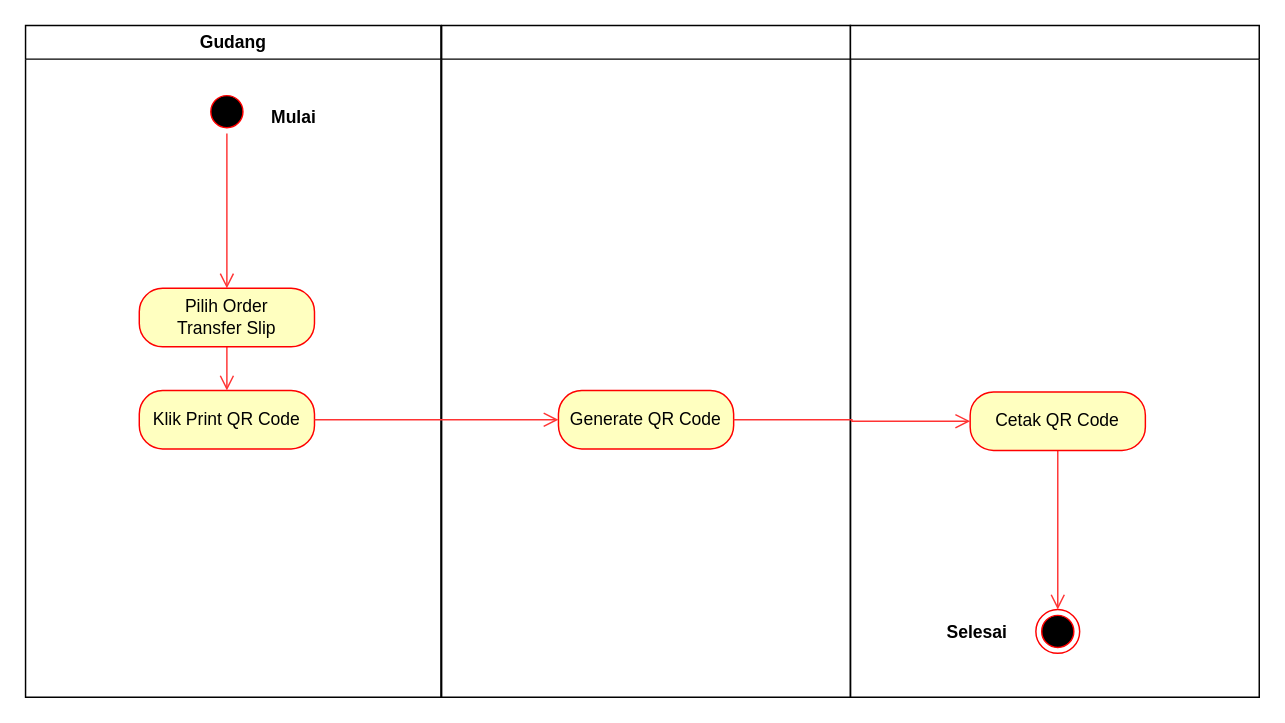
This 1285x723 diagram has some shape labels left out. Here are the shapes that lost their labels. From the top down, the box of each, then its label:
(440, 24, 850, 697): Control Gudang
(849, 24, 1259, 697): Aplikasi ATM
